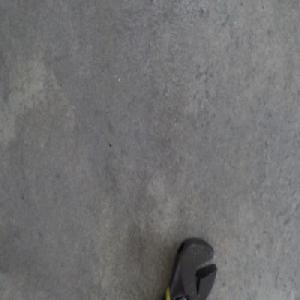AdjustableWrench: (161, 239, 218, 299)
